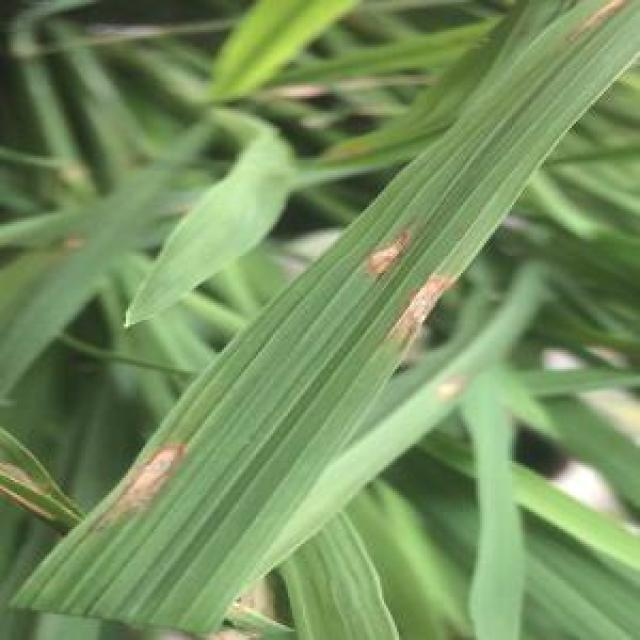Leaf_Blast: (36, 416, 220, 533), (318, 198, 427, 278), (374, 262, 469, 352)
